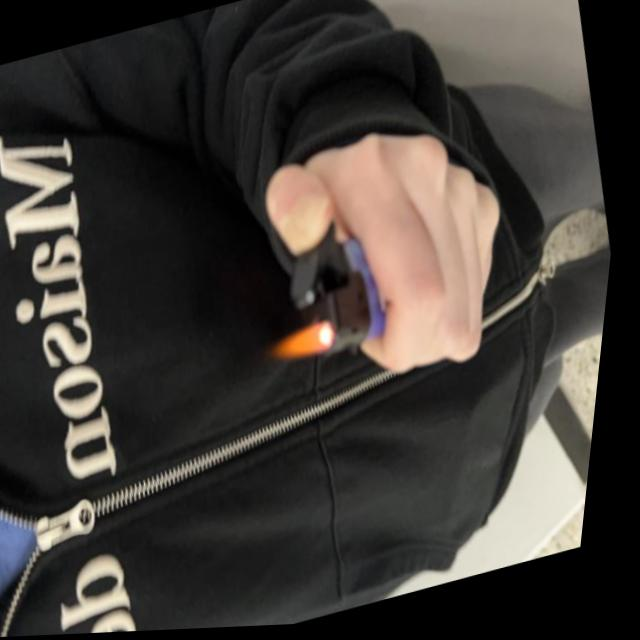Fire: (269, 319, 347, 369)
